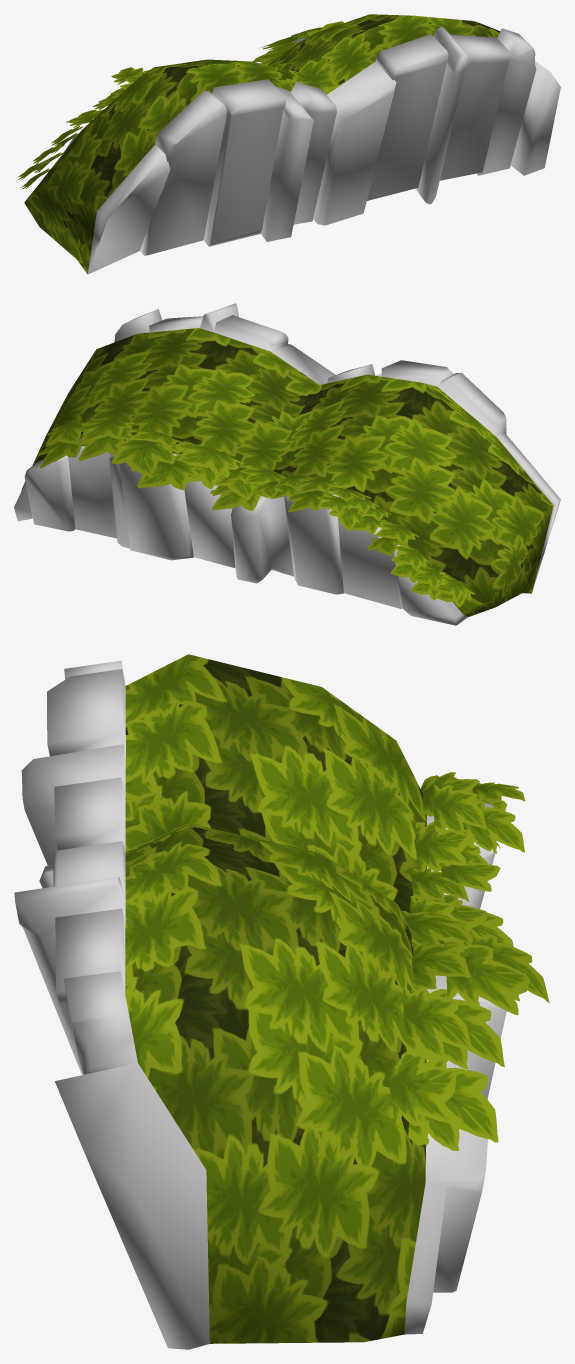
The model's file is SM_Background01Done.fbx.
3 views of the same model, one above another, from view 1: azimuth 30°, elevation 25°; view 2: azimuth 150°, elevation 25°; view 3: azimuth 270°, elevation 25° (orthographic). The views are drawn at different scales.
Parts seen in each view (by area): view 1: Cube, Foliage_Overlay; view 2: Cube, Foliage_Overlay; view 3: Cube, Foliage_Overlay.
Boxes of the visible parts, <box> form: Cube: <box>24,14,560,274</box>; Foliage_Overlay: <box>18,21,343,188</box>; Cube: <box>14,303,560,625</box>; Foliage_Overlay: <box>38,419,474,607</box>; Cube: <box>14,654,506,1349</box>; Foliage_Overlay: <box>387,772,549,1150</box>.
Size of the model in its own units: 1178 by 2343 by 870.
